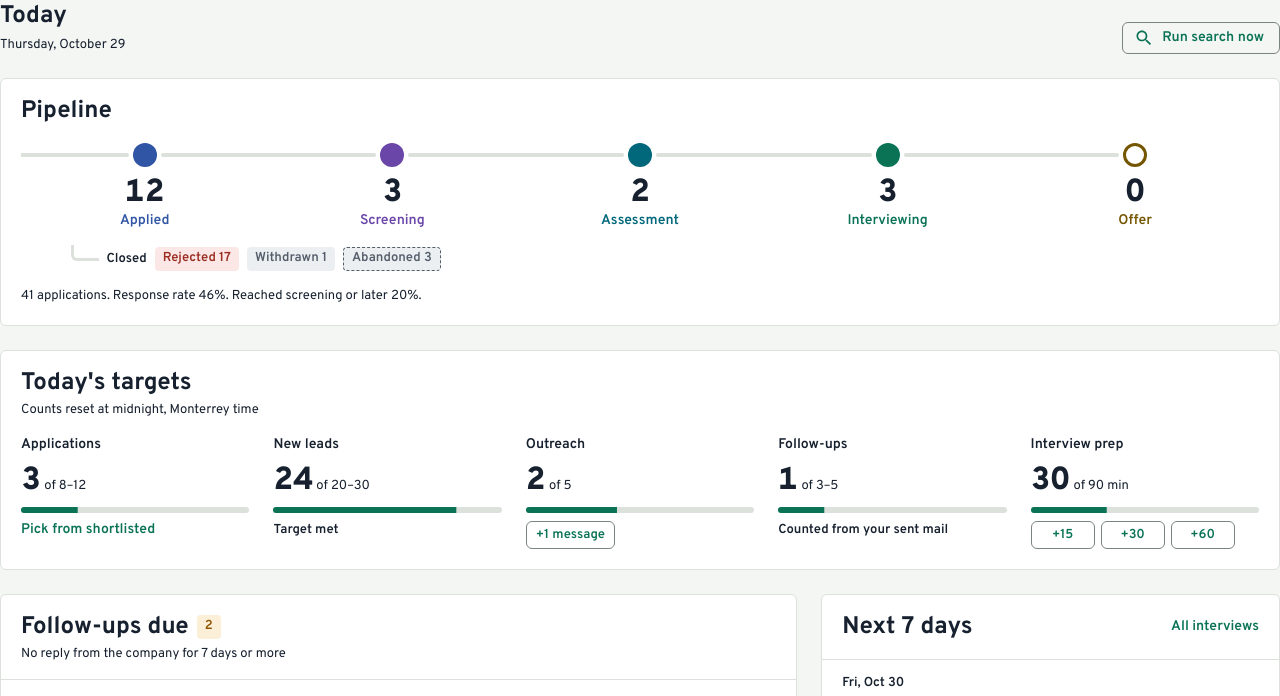
TodayPage › Run search now › posts /search/run
The width and height of the screenshot is (1280, 696).
Click the button "Run search now". click: (1201, 38)
box: [1122,22,1279,54]
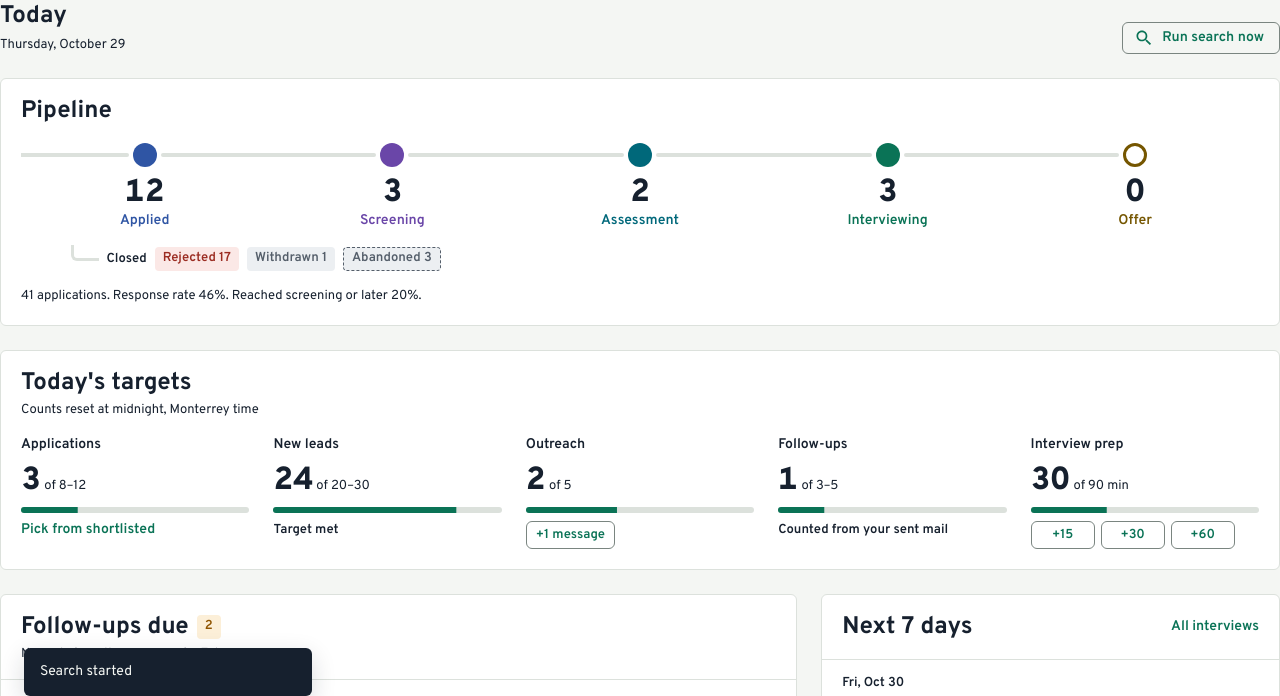
Now the text "Search started" is shown, box [40,663,132,680]
